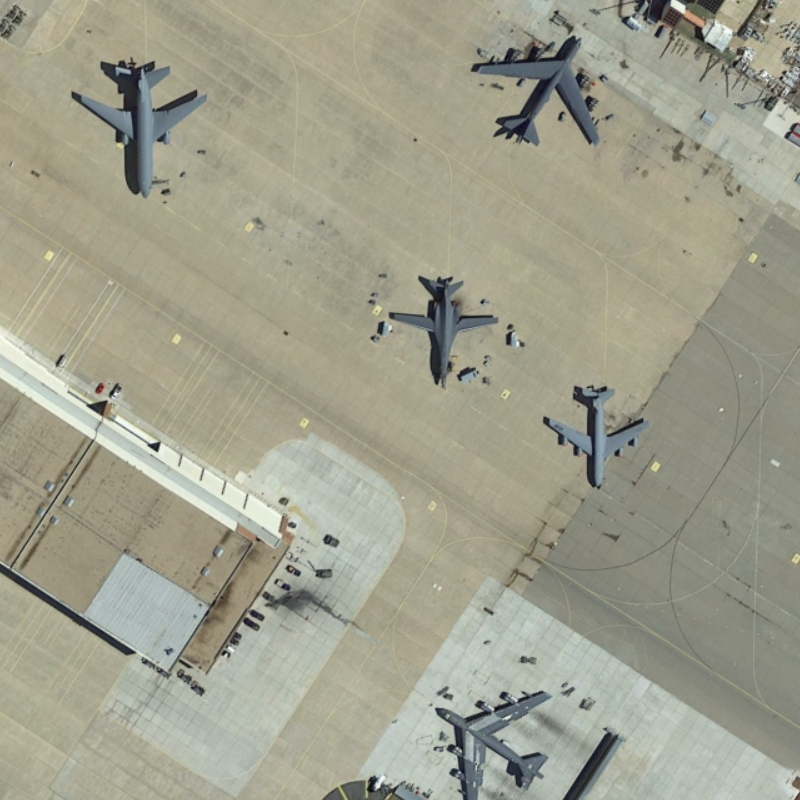A10: (382, 259, 501, 393)
A14: (541, 380, 654, 497)
A18: (71, 58, 210, 204)
A8: (471, 24, 615, 155), (429, 692, 557, 800)
